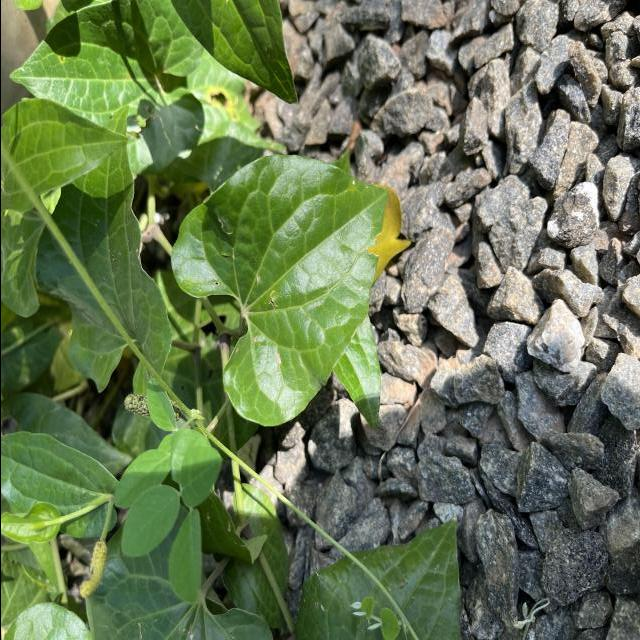Piper longum: (166, 152, 392, 430)
